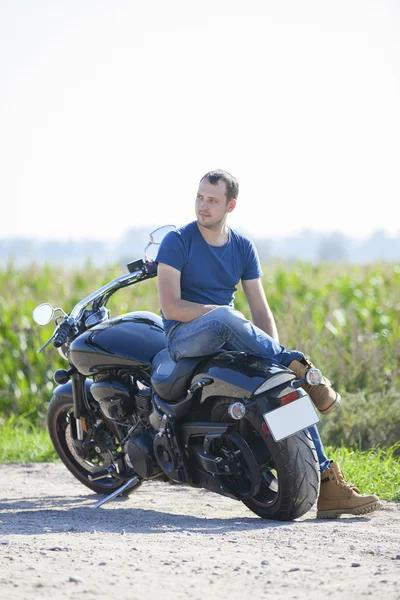nohelmet: (193, 166, 241, 234)
